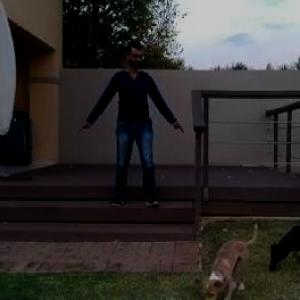land: (86, 46, 180, 220)
